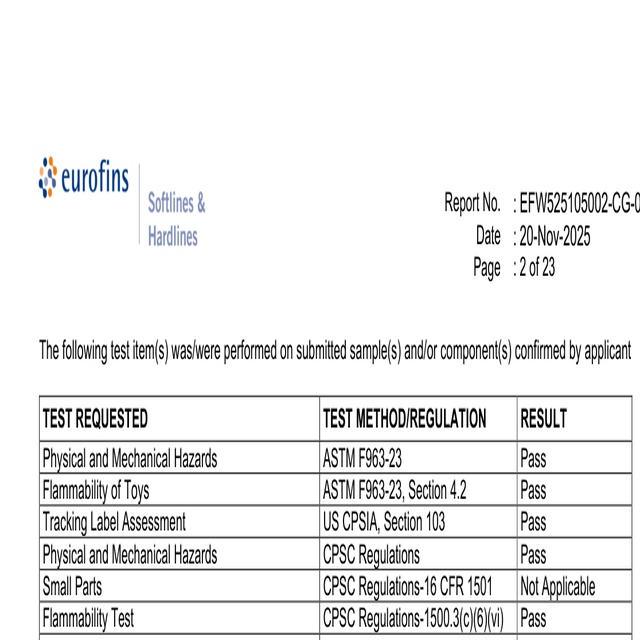eurofins: (31, 152, 133, 199)
